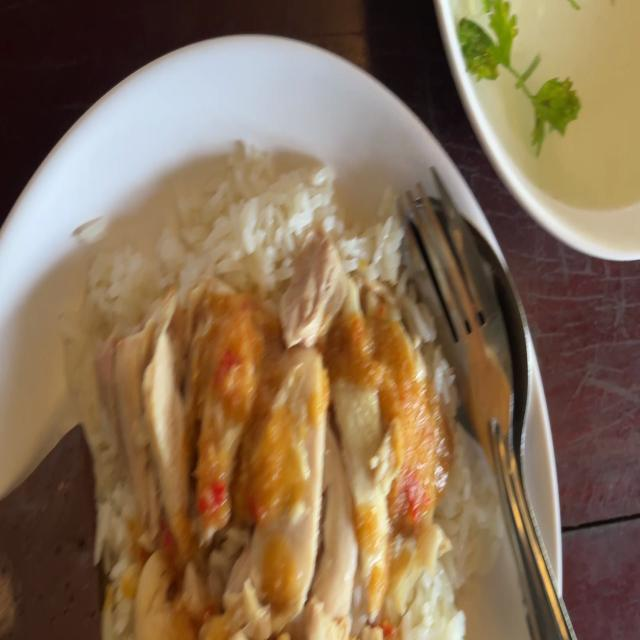boiled_chicken: (108, 284, 435, 640)
boiled_chicken_blood_jelly: (0, 422, 103, 640)
chicken_rice: (2, 166, 480, 640)
